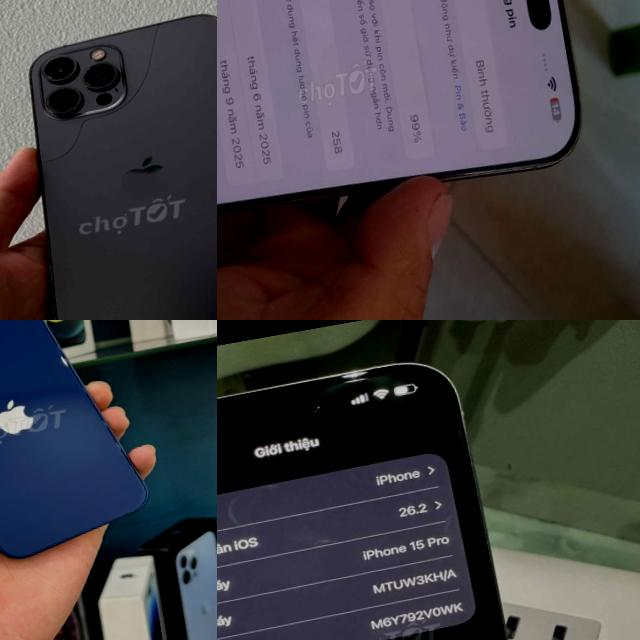physical_damage: (22, 16, 210, 171)
